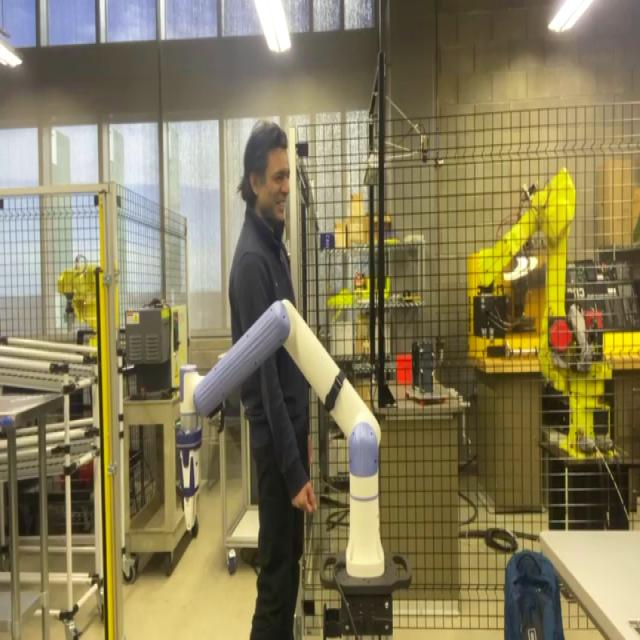robot: (166, 300, 397, 640)
